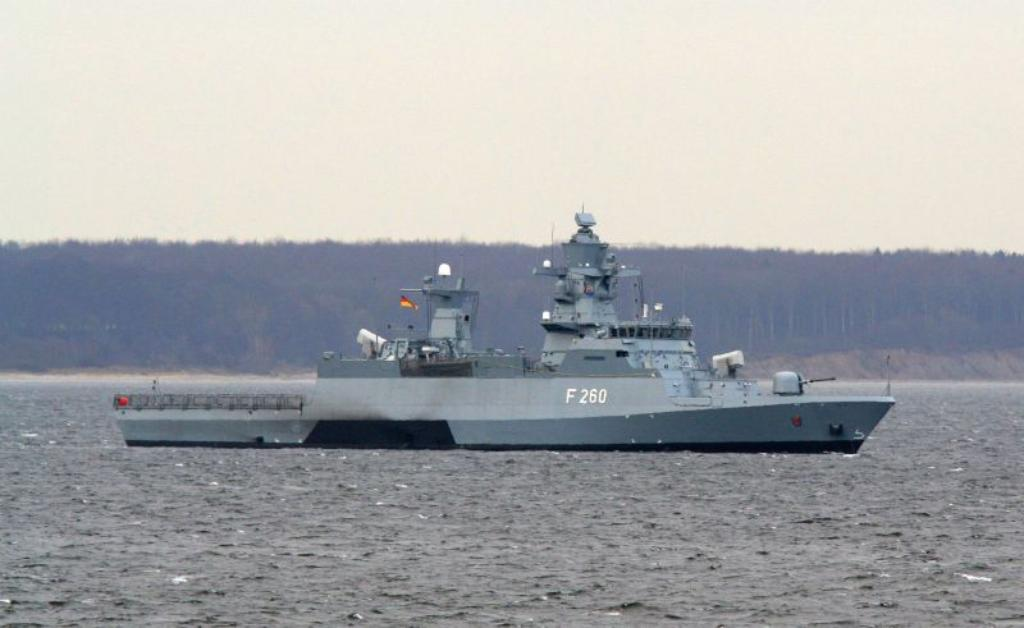Warship: (110, 201, 896, 455)
